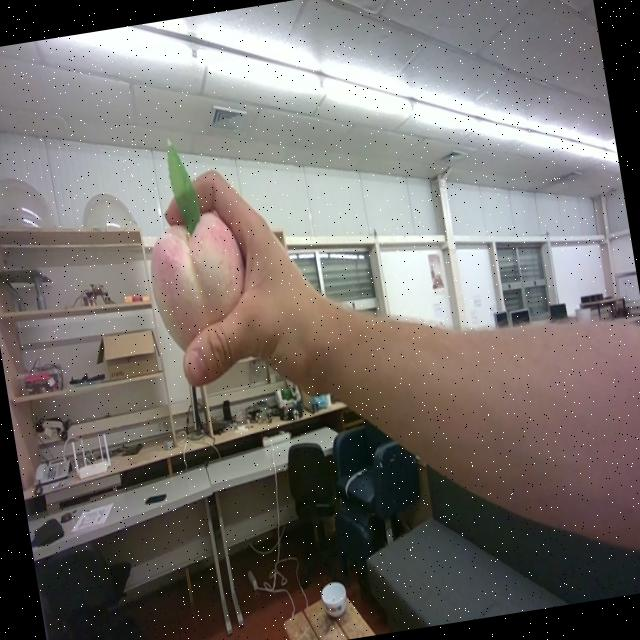peach: (151, 144, 245, 351)
